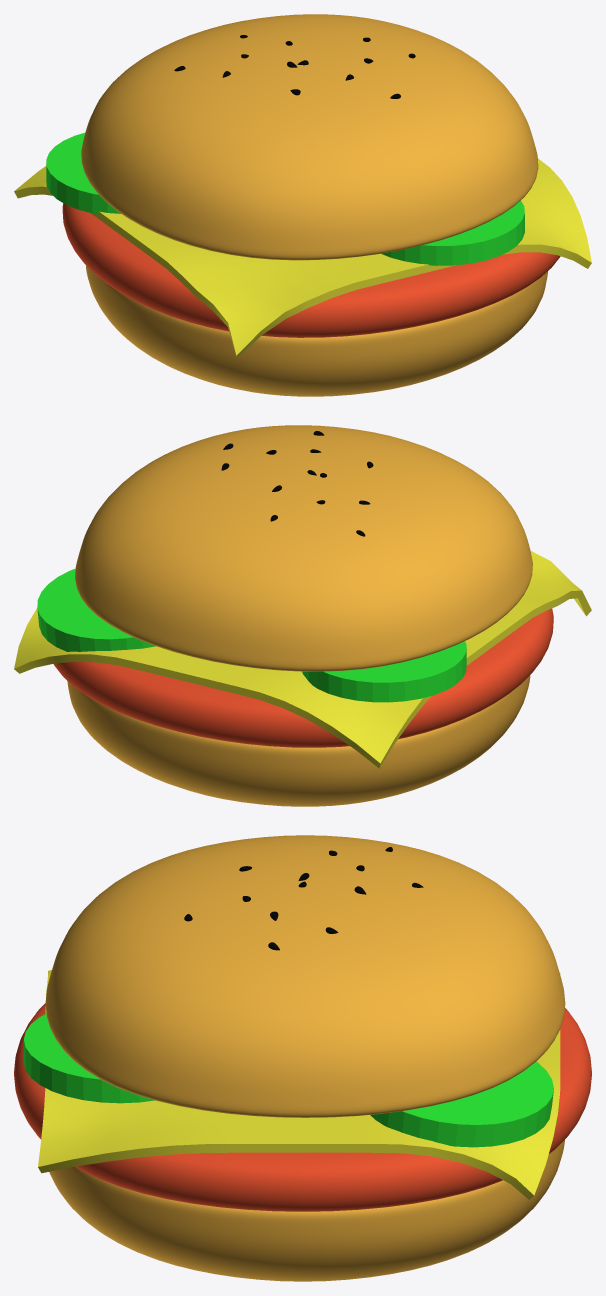
Rendered from burger.glb.
3 renders of one model, top to bottom at view 1: azimuth 30°, elevation 25°; view 2: azimuth 150°, elevation 25°; view 3: azimuth 270°, elevation 25°, orthographic. The views are drawn at different scales.
Visible parts, largest first — view 1: Cube.001, Cube, Plane, Cube.002, Cylinder.002, Cylinder.001; view 2: Cube.001, Cube, Cube.002, Plane, Cylinder.001, Cylinder; view 3: Cube.001, Cube, Cube.002, Plane, Cylinder, Cylinder.002.
Boxes of the visible parts, x1,y1,x2,y2 form: Cube.001: (81,14,538,260); Cube: (86,265,547,396); Plane: (14,158,591,357); Cube.002: (62,203,560,337); Cylinder.002: (381,200,524,265); Cylinder.001: (46,132,120,214); Cube.001: (75,425,532,671); Cube: (67,675,530,806); Cube.002: (53,608,553,747); Plane: (14,551,591,768); Cylinder.001: (302,641,466,702); Cylinder: (37,568,155,651); Cube.001: (45,835,565,1117); Cube: (49,1140,564,1281); Cube.002: (14,1003,591,1211); Plane: (38,970,560,1199); Cylinder: (370,1061,553,1147); Cylinder.002: (23,1013,154,1103).
Bounding box in the file's own units: 20.11 × 12.76 × 20.11.
